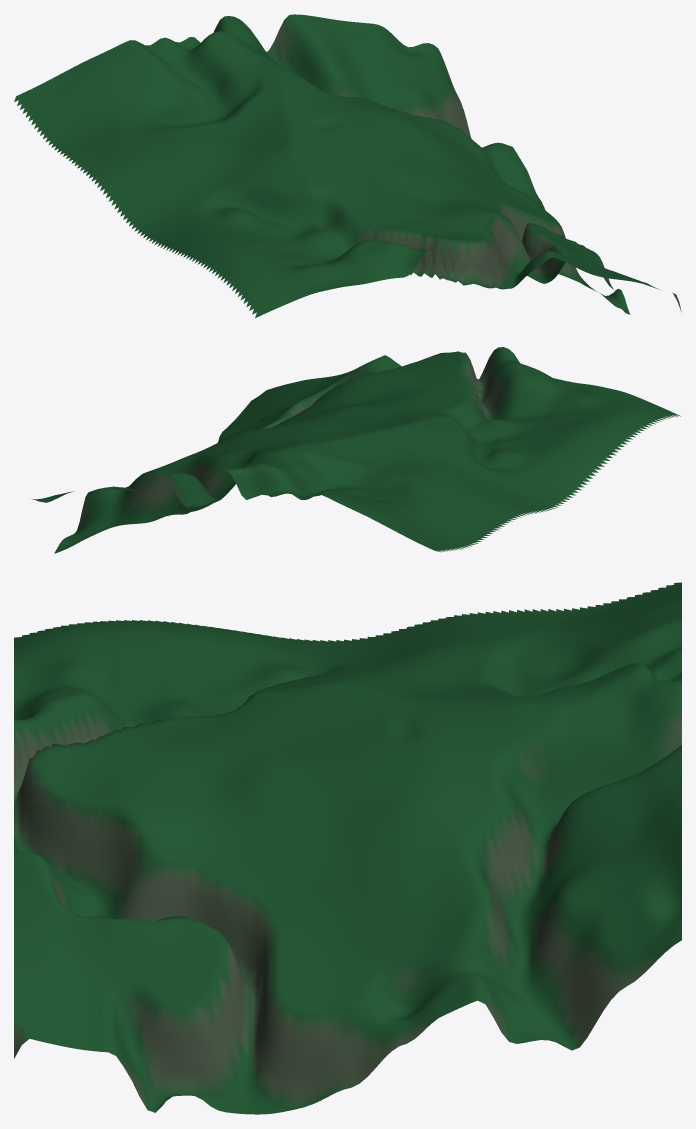
The model's file is payo_land_x1_y0.glb.
3 views of the same model, one above another, from view 1: azimuth 30°, elevation 25°; view 2: azimuth 150°, elevation 25°; view 3: azimuth 270°, elevation 25° (orthographic). The views are drawn at different scales.
Visible parts, largest first — view 1: payo_land_x1_y0; view 2: payo_land_x1_y0; view 3: payo_land_x1_y0.
Part boxes in pixels (box(x1,y1,x2,y2)): payo_land_x1_y0: box(14, 14, 681, 318); payo_land_x1_y0: box(32, 347, 680, 553); payo_land_x1_y0: box(14, 582, 681, 1114).
Bounding box in the file's own units: 258 × 122 × 255.
